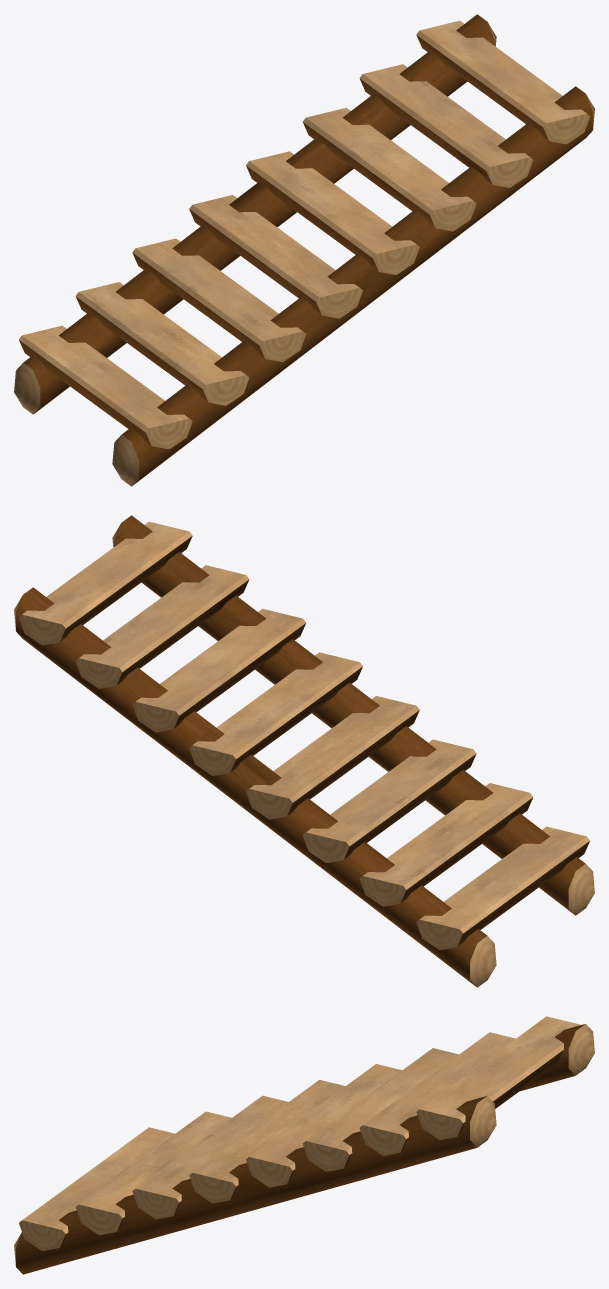
File: Docks_Decking_Steps_1x2.glb
3 views of the same model, one above another, from view 1: azimuth 30°, elevation 25°; view 2: azimuth 150°, elevation 25°; view 3: azimuth 330°, elevation 25° (orthographic).
Visible parts, largest first — view 1: Docks_Decking_Steps_1x2; view 2: Docks_Decking_Steps_1x2; view 3: Docks_Decking_Steps_1x2.
Part boxes in pixels (bbox=[...]): Docks_Decking_Steps_1x2: bbox=[14, 14, 594, 486]; Docks_Decking_Steps_1x2: bbox=[14, 515, 594, 987]; Docks_Decking_Steps_1x2: bbox=[14, 1016, 594, 1274].
Bounding box in the file's own units: 212 × 119 × 96.88.
Materials: 3 (3 with a texture image).
